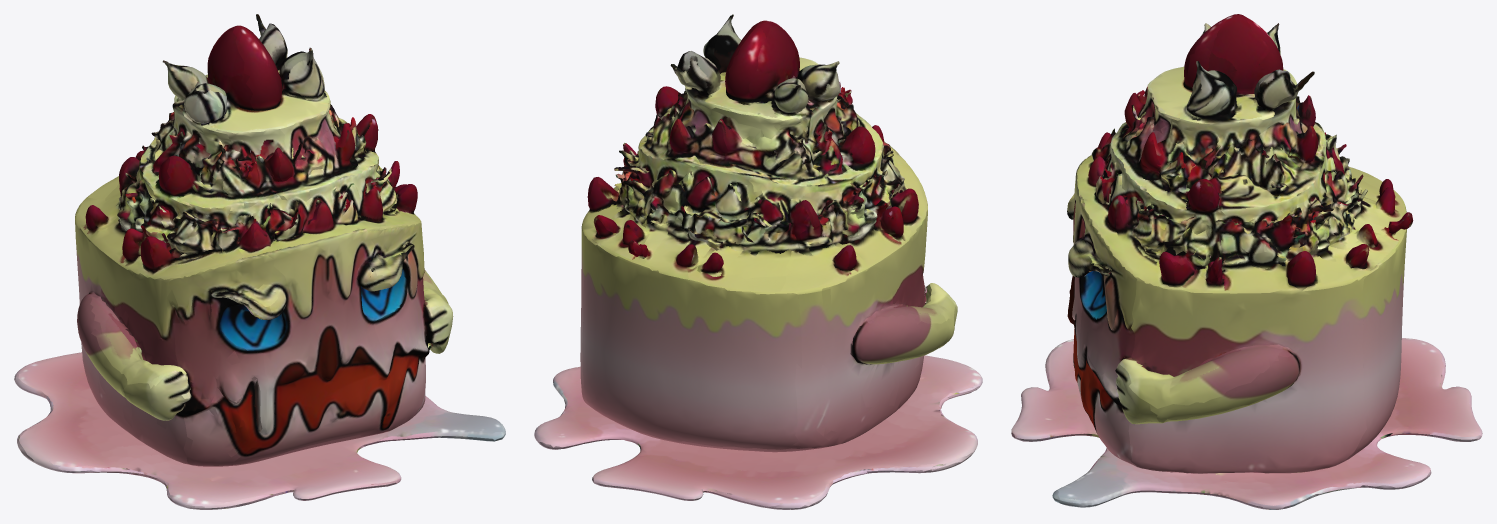
Rendered from enemy_cake.obj.
3 views of the same model, side by side, from view 1: azimuth 30°, elevation 25°; view 2: azimuth 150°, elevation 25°; view 3: azimuth 270°, elevation 25° (orthographic). The views are drawn at different scales.
Visible parts, largest first — view 1: tmpc24ce_z0.ply; view 2: tmpc24ce_z0.ply; view 3: tmpc24ce_z0.ply.
Boxes of the visible parts, x1,y1,x2,y2 form: tmpc24ce_z0.ply: (14,14,505,509); tmpc24ce_z0.ply: (534,14,982,509); tmpc24ce_z0.ply: (1011,14,1482,509).
Size of the model in its own units: 1.99 by 1.87 by 1.99.
